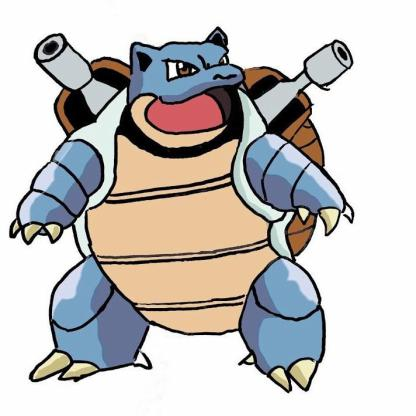Blastoise: (1, 1, 416, 411)
